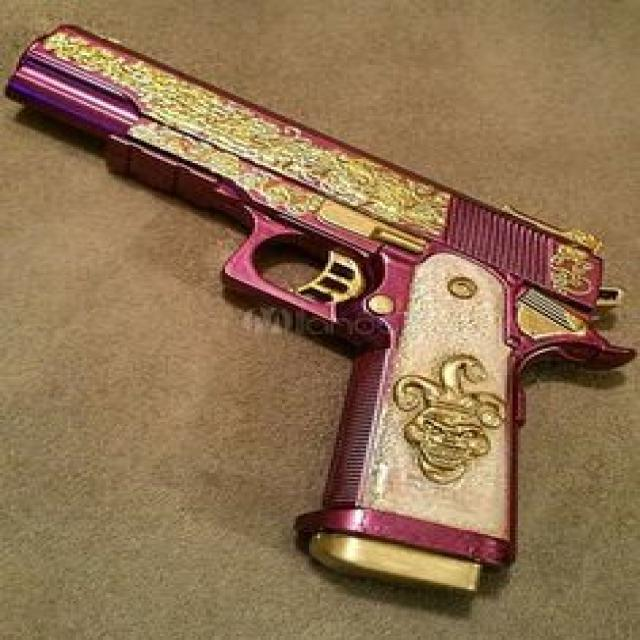semi automatic: (0, 6, 640, 616)
